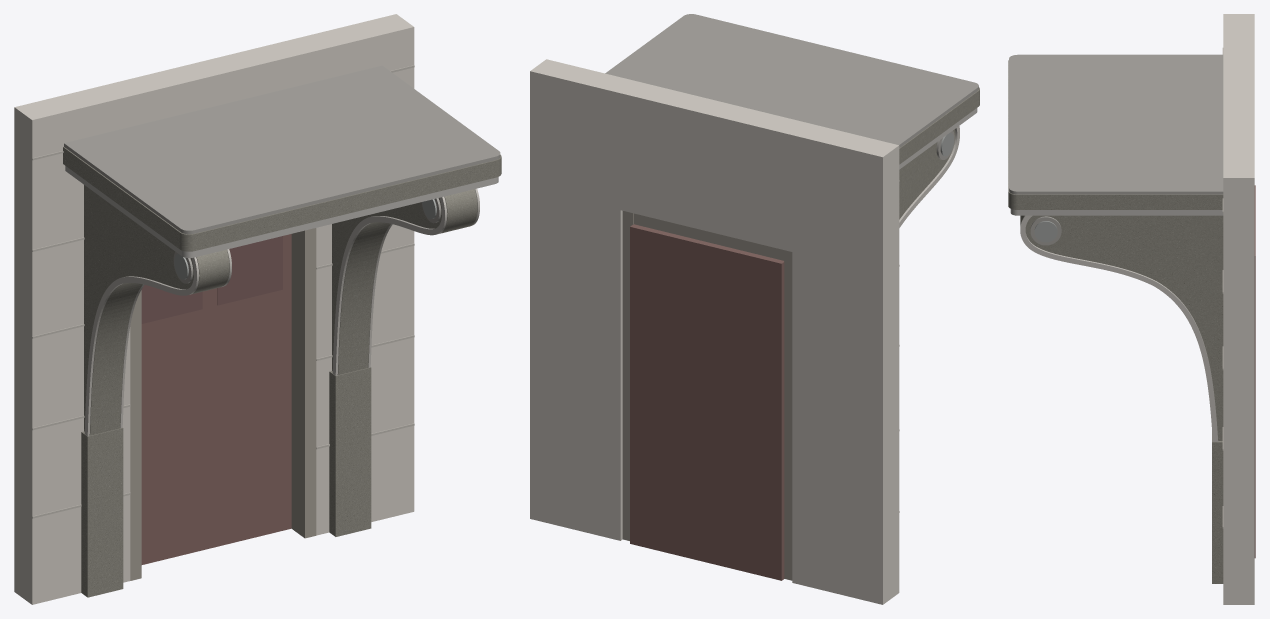
Rendered from yanqing-lane18-curved-entrance-canopy-near.glb.
The picture shows the model from 3 angles, left to right: view 1: azimuth 30°, elevation 25°; view 2: azimuth 150°, elevation 25°; view 3: azimuth 270°, elevation 25°; orthographic projection. The views are drawn at different scales.
Parts seen in each view (by area): view 1: 延庆路18弄10号弧托雨篷与圆形端饰; view 2: 延庆路18弄10号弧托雨篷与圆形端饰; view 3: 延庆路18弄10号弧托雨篷与圆形端饰.
Boxes of the visible parts, bbox=[...] form: 延庆路18弄10号弧托雨篷与圆形端饰: bbox=[14, 14, 501, 604]; 延庆路18弄10号弧托雨篷与圆形端饰: bbox=[530, 14, 979, 604]; 延庆路18弄10号弧托雨篷与圆形端饰: bbox=[1008, 14, 1255, 604].
Size of the model in its own units: 2.4 by 2.91 by 1.53.
10 materials, 1 textured.
